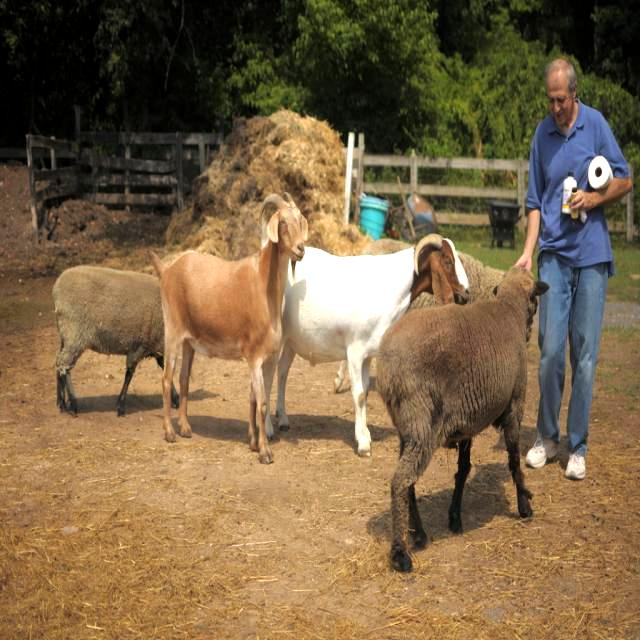sheep: (155, 197, 307, 426), (277, 245, 418, 450), (53, 264, 163, 411), (408, 243, 515, 313)
